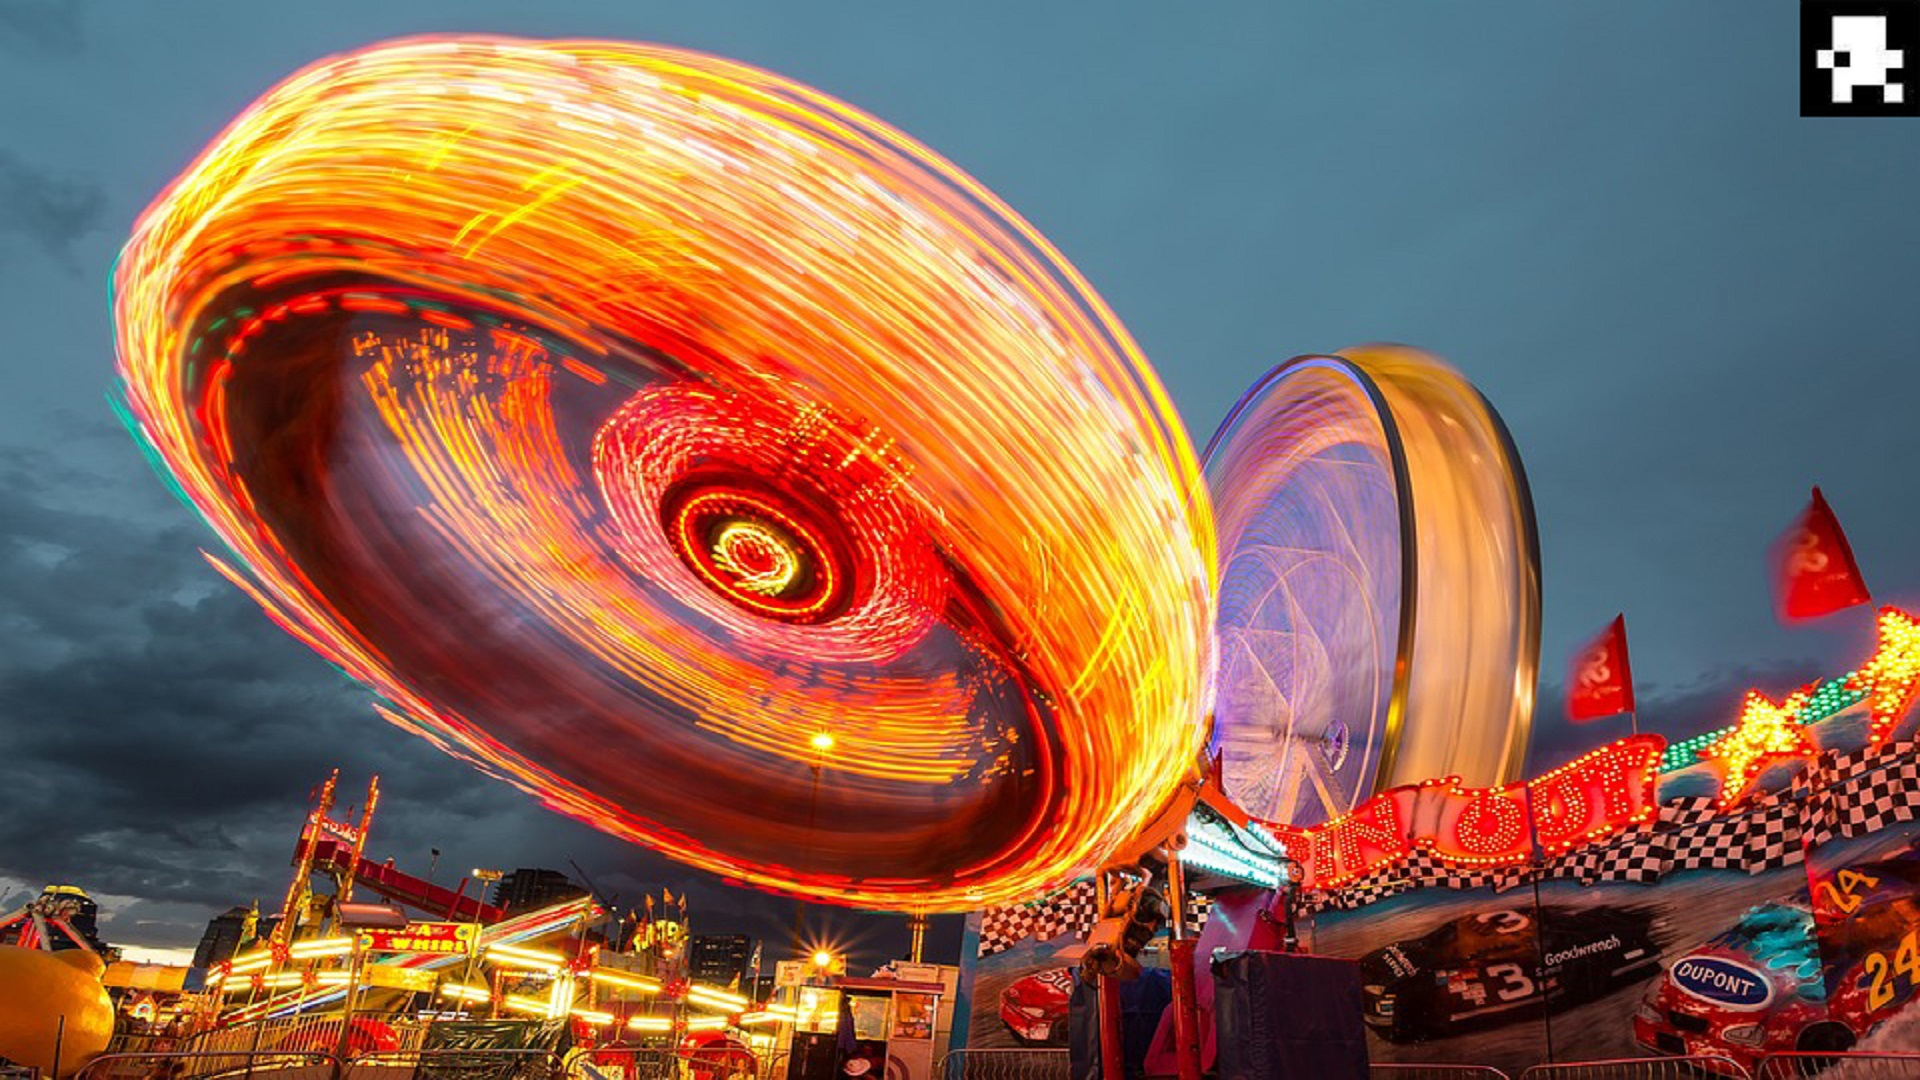marker: (1796, 1, 1920, 120)
